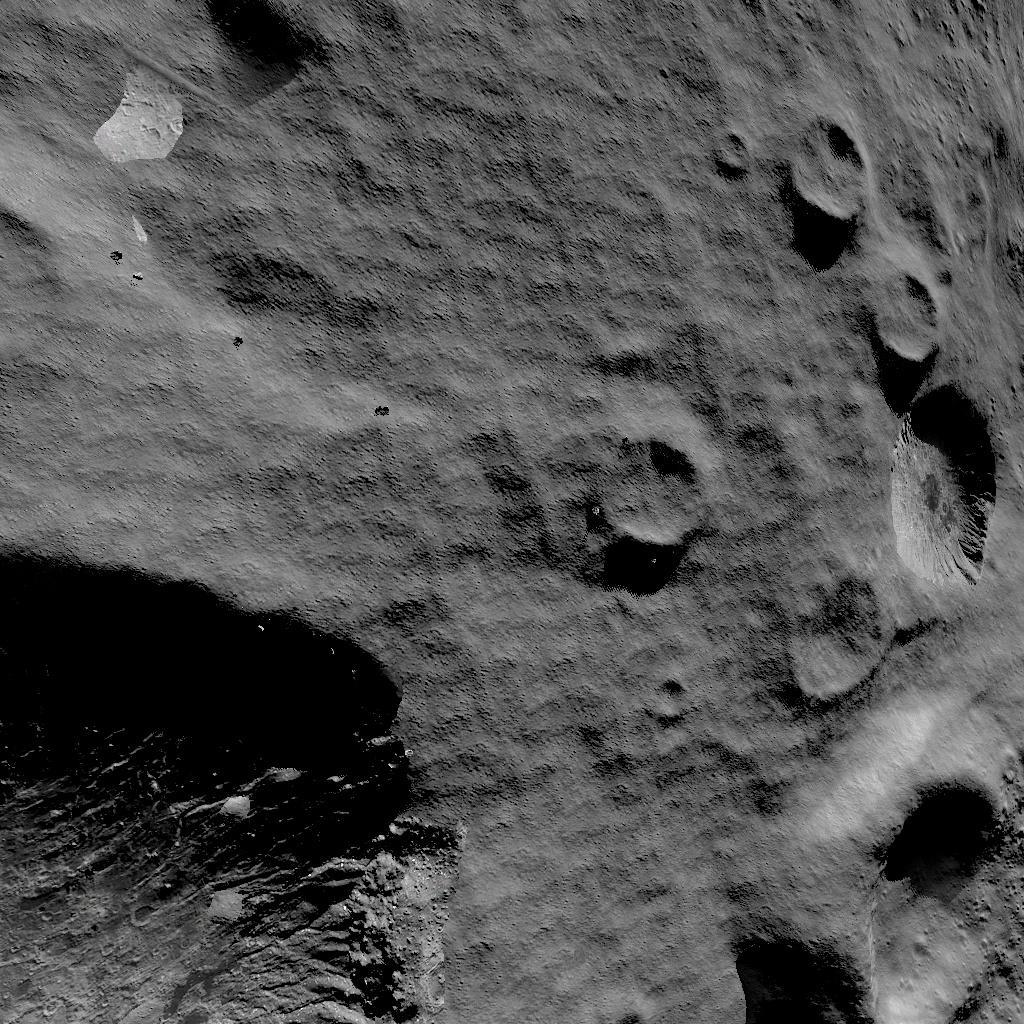Boulders: (81, 62, 191, 164)
Crater: (0, 532, 431, 1024), (750, 712, 1010, 1024), (785, 388, 993, 694), (588, 430, 720, 570), (782, 112, 876, 232), (854, 264, 944, 360)
Plan surface: (0, 179, 541, 516)
